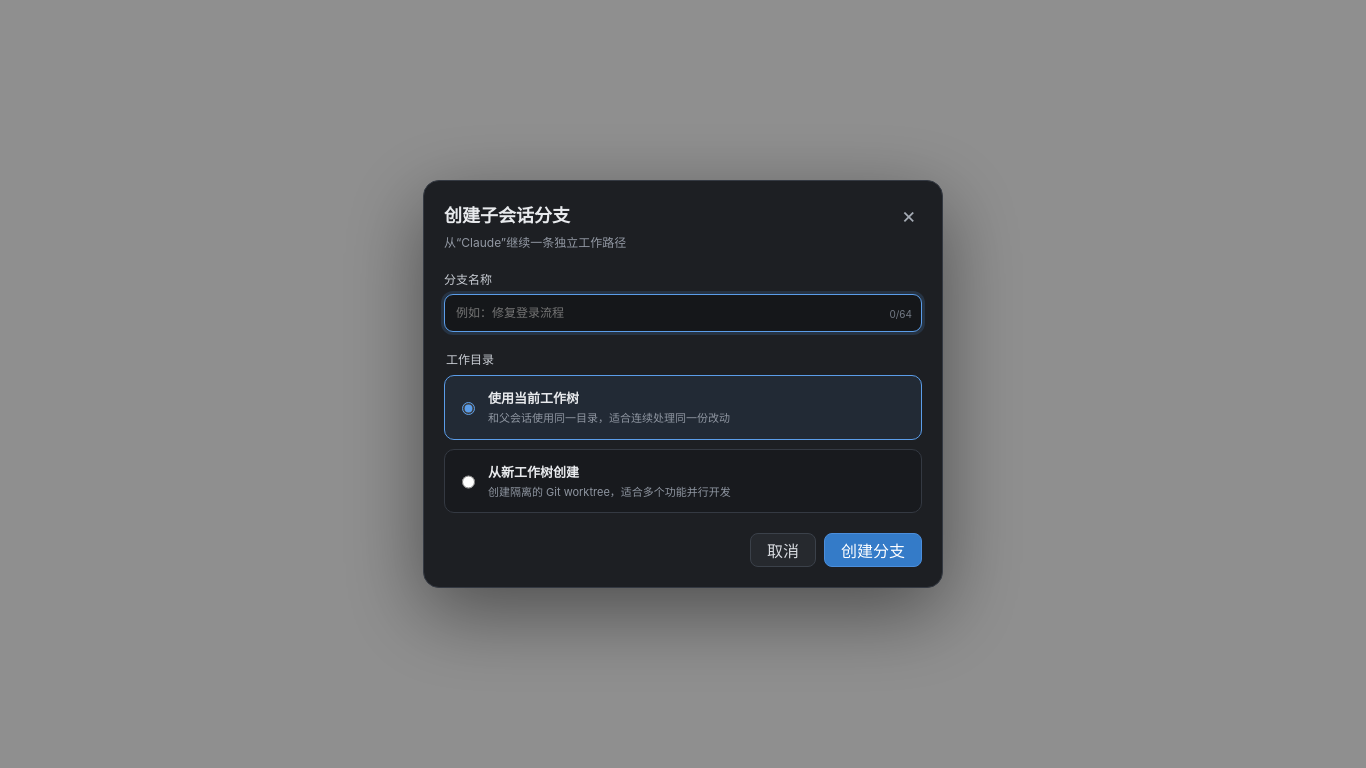
Test: BranchDialog › shows a real workflow error and keeps the user input for correction or retry
Type "修复登录" into the field labelled "分支名称" at coordinates (683, 313), box [444,294,922,332]
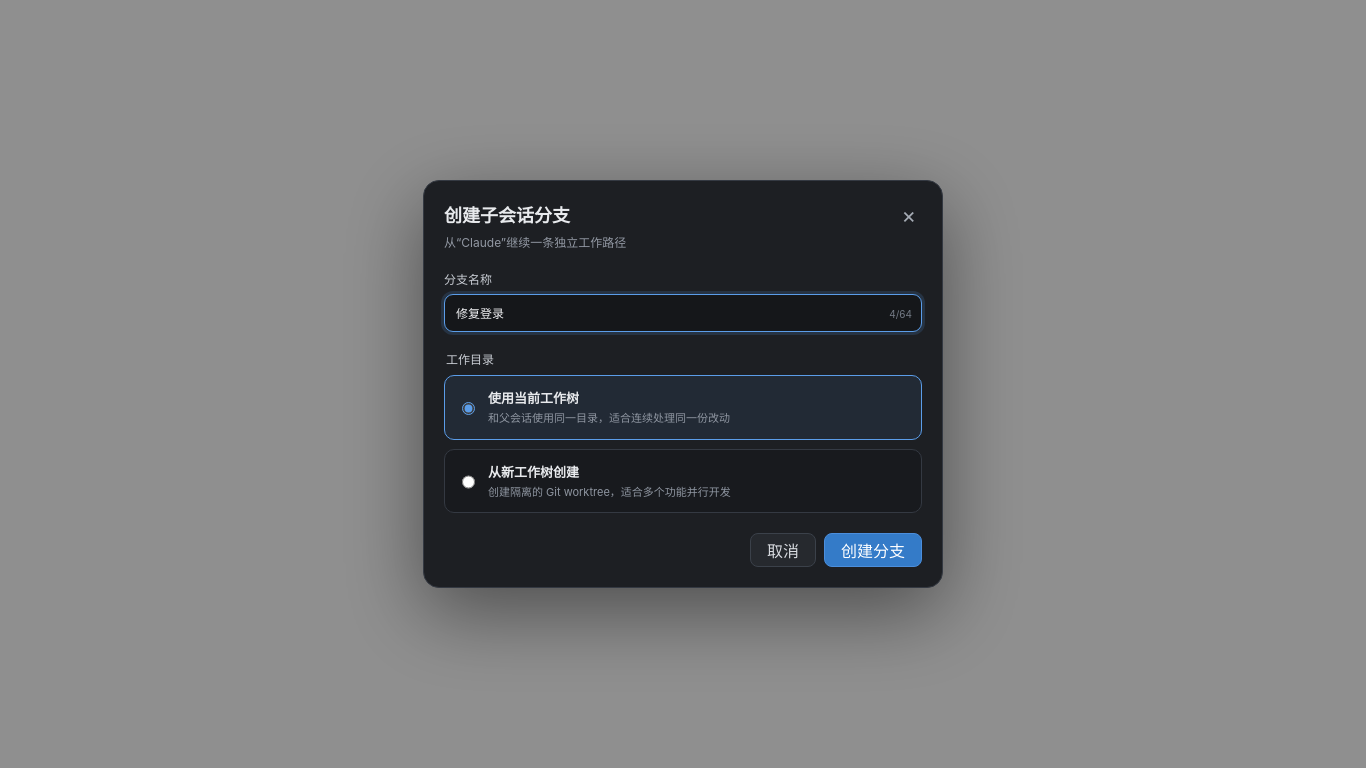
Click the button "创建分支" at coordinates (873, 550), box [824,533,922,567]
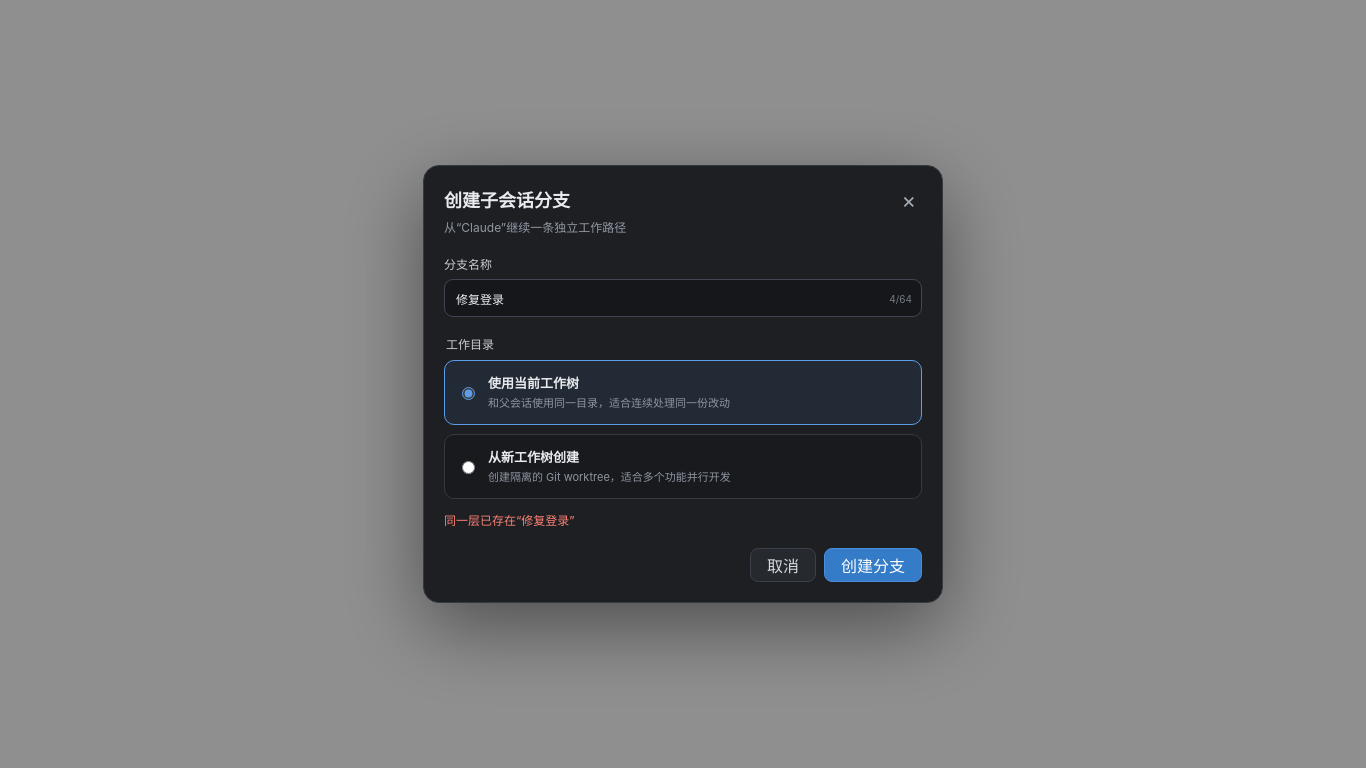
Check: the button "创建分支" is enabled, box [824,548,922,582]
Check: the text "同一层已存在“修复登录”" is shown, box [444,513,575,528]
